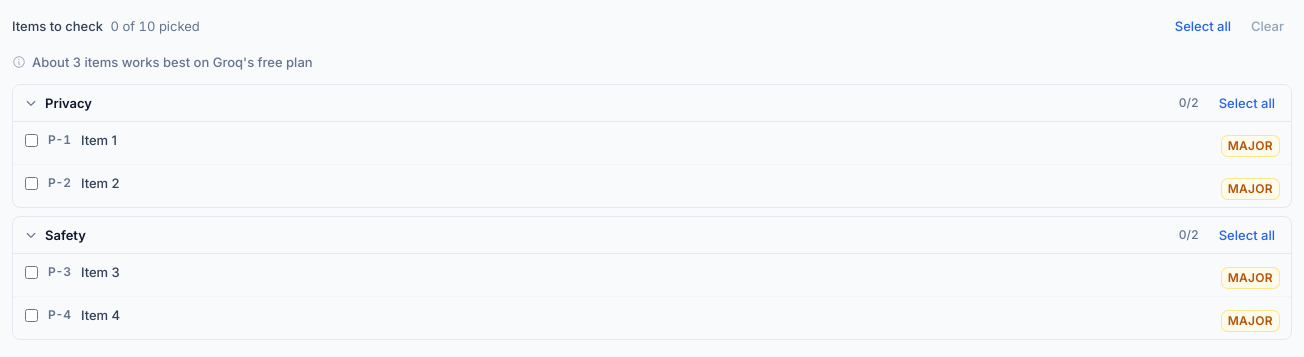
Test: AppItemPicker › select all per category › picks every item of that category only, and leaves the other category alone
Click the button with aria-label "Select all in Privacy".
click(1247, 103)  # box top-left (1211, 89), bottom-right (1283, 117)
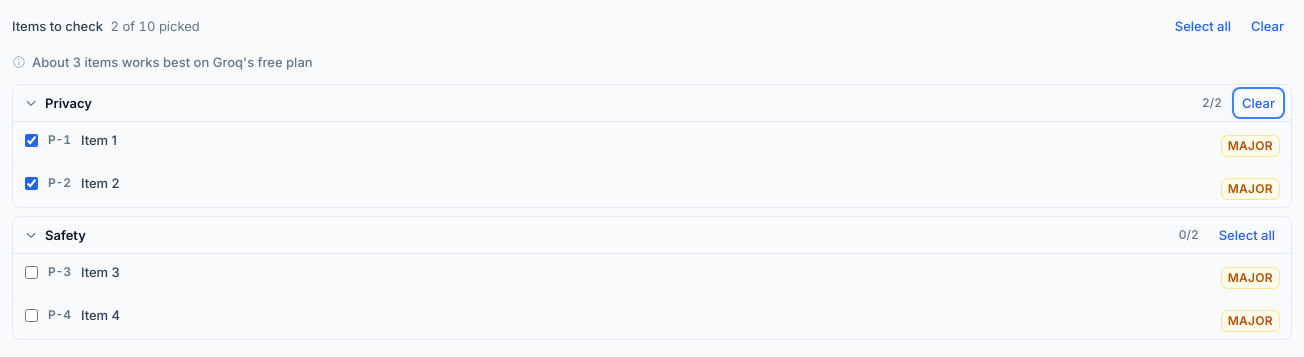
Expected: the checkbox labelled "Item 3" is not checked, top-left (25, 266), bottom-right (38, 279)
Expected: the checkbox labelled "Item 1" is checked, top-left (25, 134), bottom-right (38, 147)
Expected: the checkbox labelled "Item 2" is checked, top-left (25, 177), bottom-right (38, 190)
